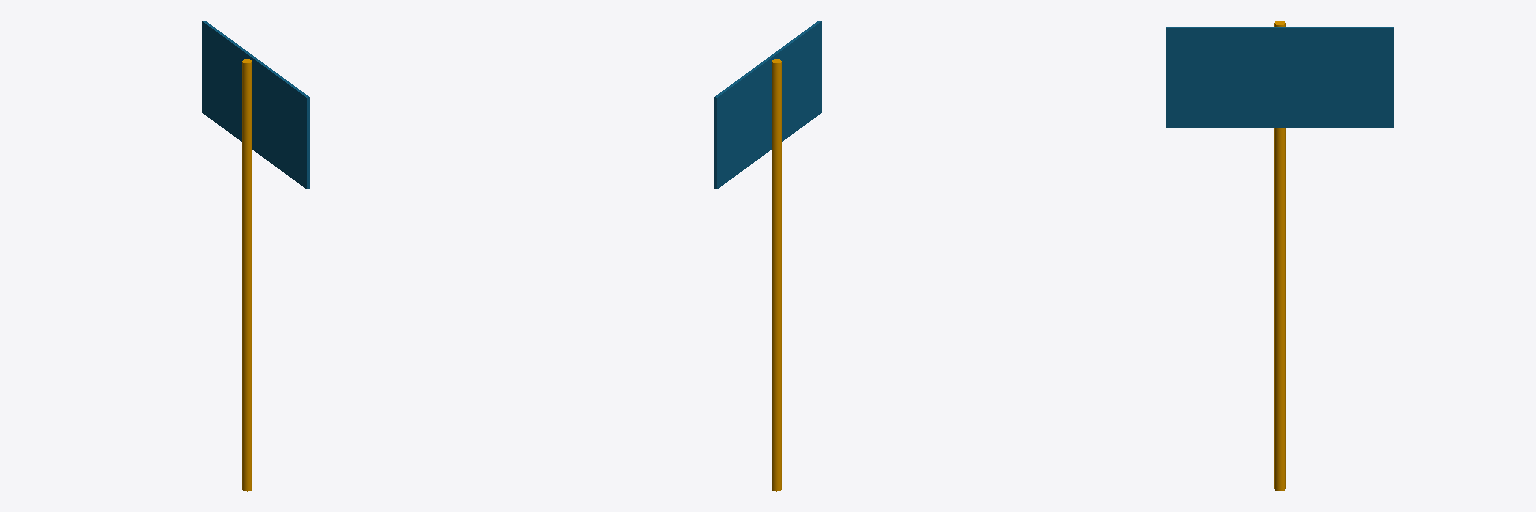
The robot description file, URDF, robot "placard":
<robot name="placard">
  <link name="placard">
    <inertial>
      <mass value="5"/>
      <origin xyz="0 0 0" rpy="0 0 0"/>
      <inertia ixx="0.01" ixy="0" ixz="0" iyy="0.01" iyz="0" izz="1"/>
    </inertial>
    <visual>
      <geometry>
	<cylinder length="1.4" radius="0.015" />
      </geometry>
    </visual>
    <collision>
      <geometry>
	<cylinder length="1.4" radius="0.015" />
      </geometry>
    </collision>
    <visual>
      <geometry>
	<box size="0.01 0.62 0.3" />
      </geometry>
      <origin xyz="0.03 0.0 0.55" />
      <material name="blue">
	<color rgba="0.11 0.42 0.56 1.0"/>
      </material>
      <!--material name="logo_romeo">
	<texture filename="package://hpp_environments/texture/logo_romeo.jpg"/>
      </material-->
    </visual>
  </link>
</robot>

--- Facts derived from the render (not from the file) ---
Views: 3 orthographic renders of the robot side by side, from view 1: azimuth 30°, elevation 25°; view 2: azimuth 150°, elevation 25°; view 3: azimuth 270°, elevation 25°.
Model placard with 1 links and 0 joints (none), rooted at placard, posed all joints at 0.
Visible links, largest first — view 1: placard; view 2: placard; view 3: placard.
Boxes of the visible links, x1=… form: placard: x1=202, y1=21, x2=309, y2=491; placard: x1=714, y1=21, x2=821, y2=491; placard: x1=1166, y1=21, x2=1393, y2=490.
Bounding box of the posed robot: 0.05 × 0.62 × 1.4 m (x, y, z).
Geometry: primitives only (box / cylinder / sphere), no mesh files.